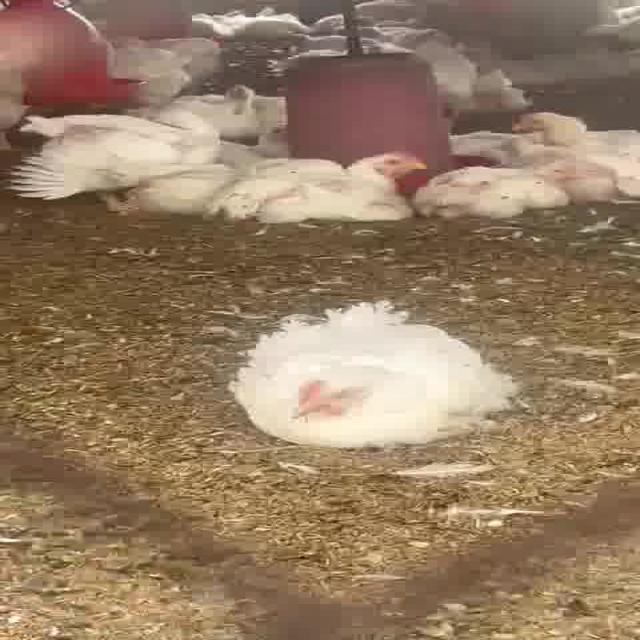AbNormal: (232, 306, 509, 444), (220, 150, 422, 230), (422, 160, 582, 220), (505, 111, 640, 154)
